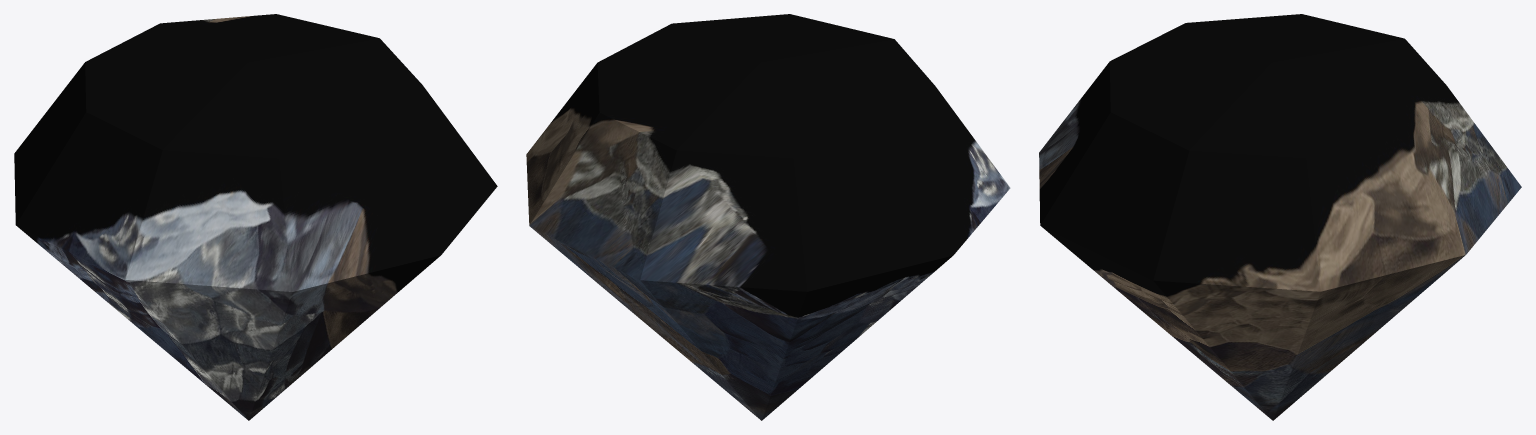
File: Diamond.obj
3 views of the same model, side by side, from view 1: azimuth 30°, elevation 25°; view 2: azimuth 150°, elevation 25°; view 3: azimuth 270°, elevation 25° (orthographic).
Visible parts, largest first — view 1: Diamond; view 2: Diamond; view 3: Diamond.
Part boxes in pixels (x1,y1,x2,y2): Diamond: [14, 14, 497, 420]; Diamond: [526, 14, 1010, 420]; Diamond: [1039, 14, 1521, 420].
Size of the model in its own units: 0.8878 by 0.7181 by 0.8755.
1 material, 1 textured.
